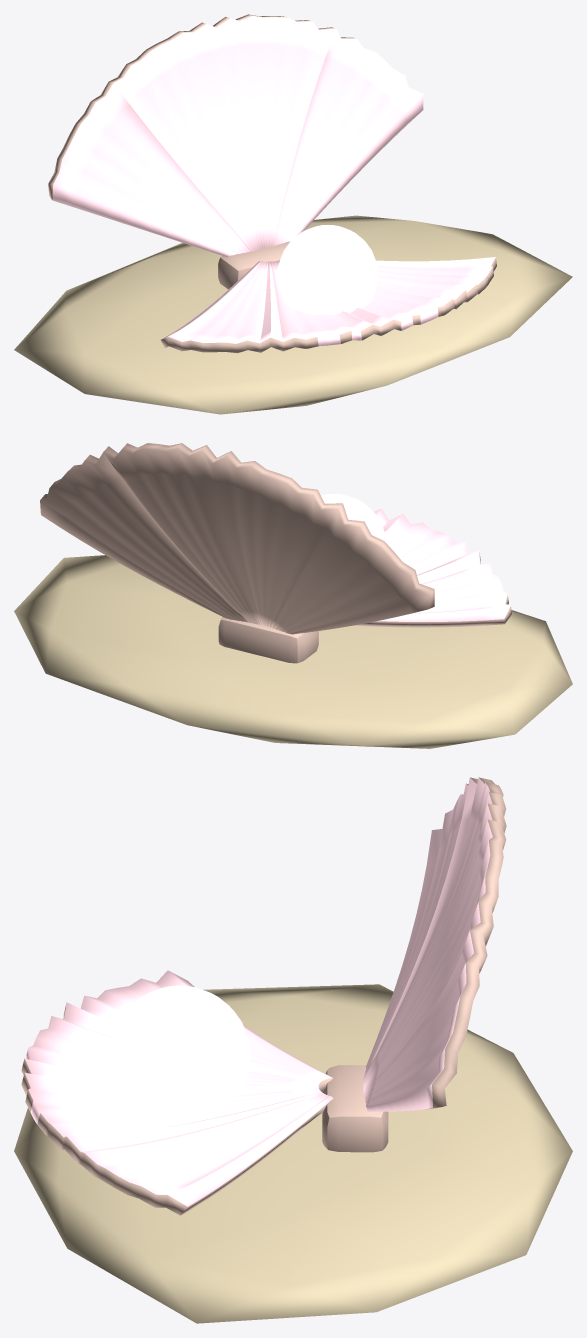
Rendered from bg_shell.glb.
3 views of the same model, one above another, from view 1: azimuth 30°, elevation 25°; view 2: azimuth 150°, elevation 25°; view 3: azimuth 270°, elevation 25° (orthographic). The views are drawn at different scales.
Visible parts, largest first — view 1: bg_shell; view 2: bg_shell; view 3: bg_shell.
Part boxes in pixels (box(x1,y1,x2,y2)): bg_shell: box(14, 14, 572, 414); bg_shell: box(14, 443, 572, 748); bg_shell: box(14, 777, 572, 1323).
Size of the model in its own units: 1.46 by 0.7426 by 1.02.
